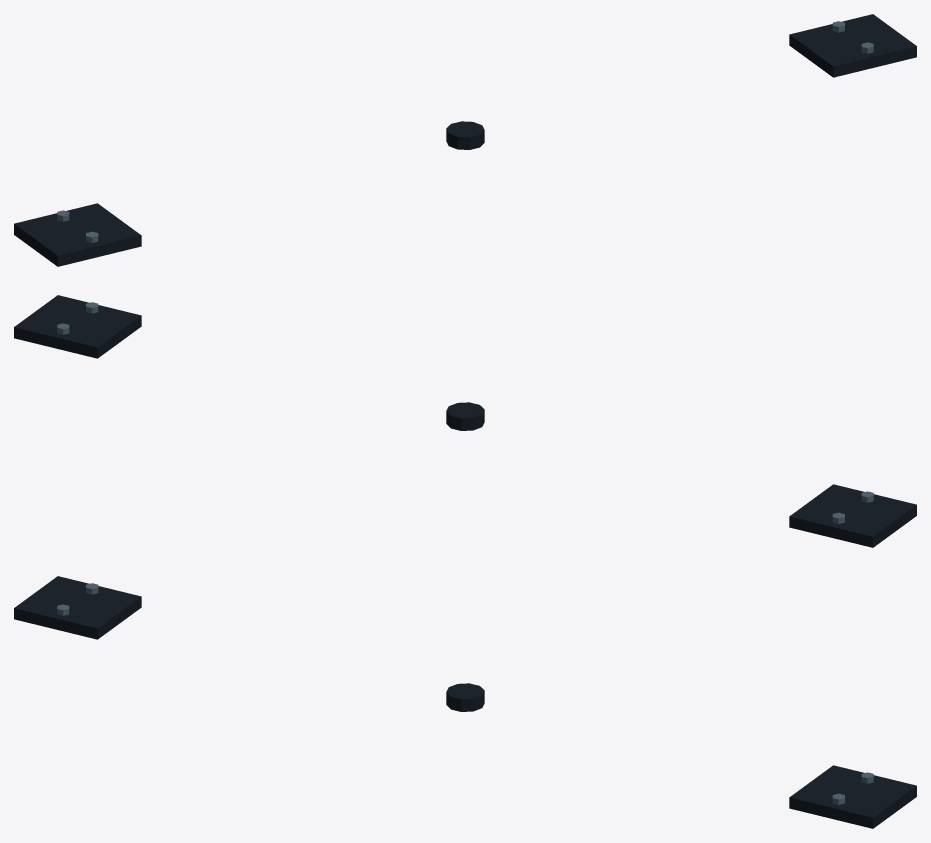
The model's file is P16-01_detail.obj.
3 views of the same model, one above another, from view 1: azimuth 30°, elevation 25°; view 2: azimuth 150°, elevation 25°; view 3: azimuth 330°, elevation 25° (orthographic).
Visible parts, largest first — view 1: P16-01_STATIC_DarkPanel_DETAIL_RearAnchorRight, P16-01_STATIC_DarkPanel_DETAIL_RearAnchorLeft, P16-01_STATIC_DarkPanel_DETAIL_RearCableGland; view 2: P16-01_STATIC_DarkPanel_DETAIL_RearAnchorRight, P16-01_STATIC_DarkPanel_DETAIL_RearAnchorLeft, P16-01_STATIC_DarkPanel_DETAIL_RearCableGland; view 3: P16-01_STATIC_DarkPanel_DETAIL_RearAnchorLeft, P16-01_STATIC_DarkPanel_DETAIL_RearAnchorRight, P16-01_STATIC_DarkPanel_DETAIL_RearCableGland.
Part boxes in pixels (left/top/right/bottom): P16-01_STATIC_DarkPanel_DETAIL_RearAnchorRight: left=789, top=14, right=916, bottom=77; P16-01_STATIC_DarkPanel_DETAIL_RearAnchorLeft: left=14, top=203, right=141, bottom=266; P16-01_STATIC_DarkPanel_DETAIL_RearCableGland: left=446, top=121, right=484, bottom=149; P16-01_STATIC_DarkPanel_DETAIL_RearAnchorRight: left=14, top=295, right=141, bottom=358; P16-01_STATIC_DarkPanel_DETAIL_RearAnchorLeft: left=789, top=484, right=916, bottom=547; P16-01_STATIC_DarkPanel_DETAIL_RearCableGland: left=446, top=402, right=484, bottom=430; P16-01_STATIC_DarkPanel_DETAIL_RearAnchorLeft: left=14, top=576, right=141, bottom=639; P16-01_STATIC_DarkPanel_DETAIL_RearAnchorRight: left=789, top=765, right=916, bottom=828; P16-01_STATIC_DarkPanel_DETAIL_RearCableGland: left=446, top=683, right=484, bottom=711.
Size of the model in its own units: 1.13 by 0.021 by 0.1.
